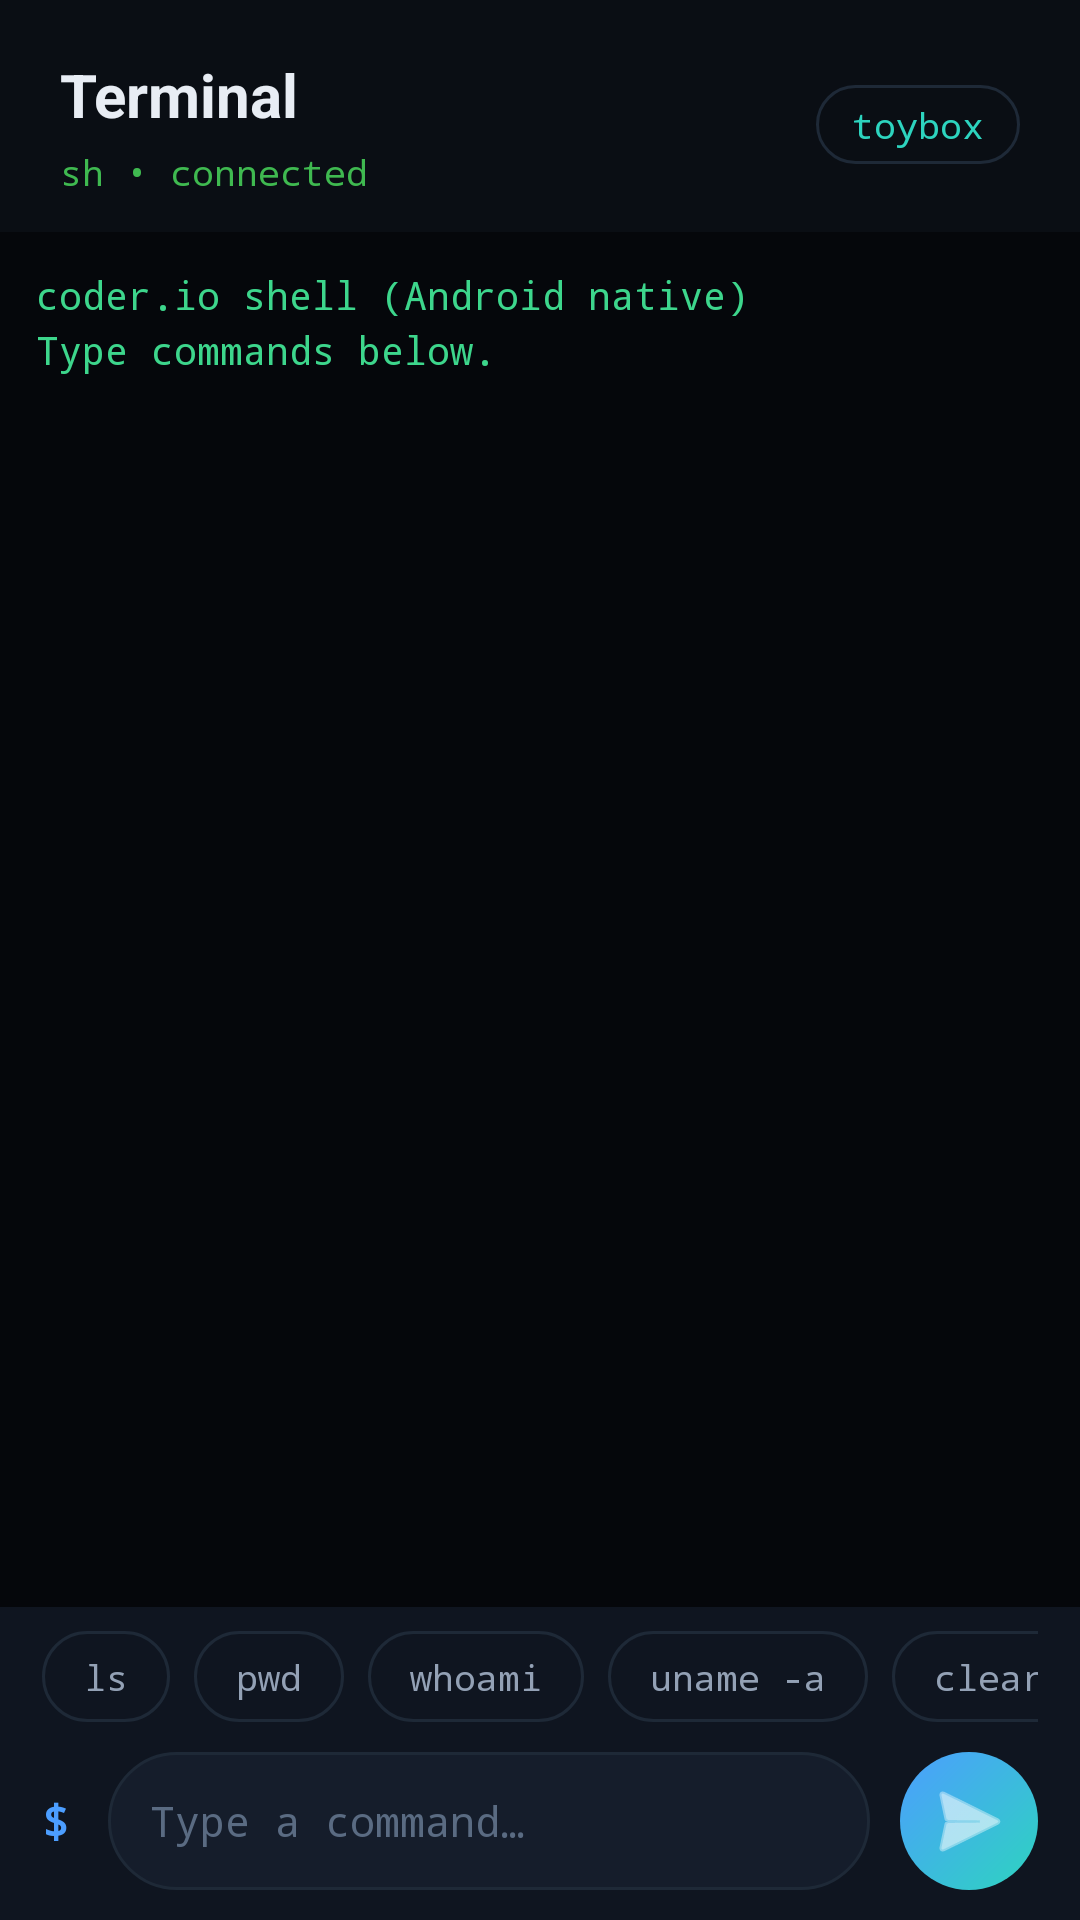

Point at icon controls on the screen. Image size 1080 x 1920, points as point (x, y).
Send: point (969, 1821)
